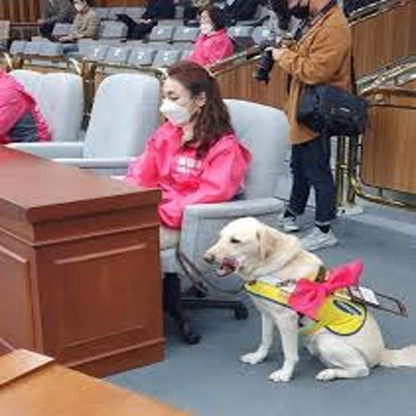guide-dog: (200, 209, 410, 389)
